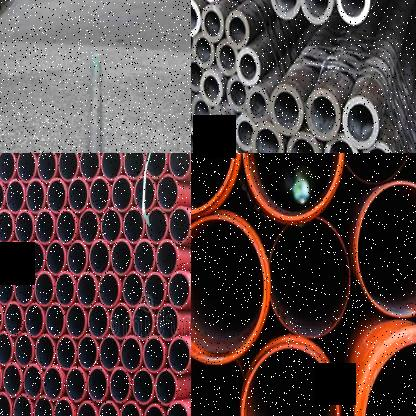pipe: (191, 215, 270, 363), (269, 218, 351, 338), (356, 182, 416, 317), (242, 153, 345, 222), (241, 345, 340, 416), (362, 338, 416, 416), (191, 349, 246, 416), (339, 95, 380, 153), (339, 153, 416, 183), (304, 88, 340, 144), (268, 84, 303, 138), (224, 8, 252, 51), (235, 45, 262, 86), (334, 0, 371, 28), (200, 2, 224, 45), (224, 72, 248, 115), (249, 122, 282, 153), (246, 84, 270, 126), (199, 67, 224, 107), (299, 0, 335, 27), (232, 113, 255, 152), (208, 107, 232, 144), (215, 38, 237, 77), (266, 0, 300, 25), (191, 92, 211, 133), (168, 338, 191, 373), (192, 32, 214, 68), (324, 131, 360, 153), (156, 240, 178, 276), (168, 272, 190, 307), (286, 132, 322, 153), (123, 208, 144, 244), (157, 304, 178, 340), (155, 370, 177, 404), (169, 207, 190, 242), (146, 208, 167, 243), (144, 273, 165, 308), (134, 240, 154, 276), (157, 176, 178, 210), (134, 176, 155, 210), (144, 337, 164, 372), (112, 176, 132, 210), (90, 177, 110, 211), (68, 178, 88, 212), (101, 209, 121, 243), (112, 240, 132, 274), (90, 240, 110, 274), (123, 272, 143, 306), (99, 272, 119, 306), (45, 303, 65, 337), (66, 304, 86, 338), (111, 304, 131, 338), (133, 305, 153, 339), (56, 336, 76, 370), (100, 336, 120, 370), (88, 368, 108, 402), (66, 368, 86, 402), (110, 368, 130, 402), (133, 370, 153, 404), (14, 334, 34, 367), (121, 337, 141, 370), (14, 272, 34, 304), (78, 336, 98, 368), (88, 305, 107, 338), (43, 367, 62, 400), (80, 210, 98, 244), (56, 272, 74, 306), (47, 180, 66, 212), (35, 274, 54, 306), (78, 273, 96, 306), (36, 335, 54, 368), (57, 211, 75, 243), (47, 242, 65, 274), (26, 242, 44, 274), (68, 242, 86, 274), (6, 242, 24, 274), (4, 364, 22, 396), (24, 366, 42, 398), (5, 303, 22, 336), (6, 181, 24, 212), (36, 211, 54, 242), (16, 212, 34, 243), (359, 138, 396, 153), (26, 304, 43, 336), (79, 153, 99, 180), (27, 181, 44, 212), (145, 153, 166, 178), (101, 153, 121, 179), (58, 153, 77, 180), (191, 56, 204, 95), (169, 153, 190, 177), (38, 153, 56, 181), (17, 153, 35, 181), (124, 153, 144, 178), (0, 272, 14, 304), (0, 153, 15, 182), (0, 211, 13, 242), (0, 333, 12, 365), (34, 396, 53, 416), (13, 395, 31, 416), (201, 135, 221, 153), (54, 398, 73, 416), (191, 0, 200, 36), (167, 402, 188, 416), (121, 402, 141, 416), (99, 402, 118, 416), (77, 402, 96, 416), (217, 143, 241, 153), (191, 124, 199, 153), (0, 393, 10, 416), (144, 405, 164, 416), (191, 25, 196, 59), (0, 181, 4, 212)
